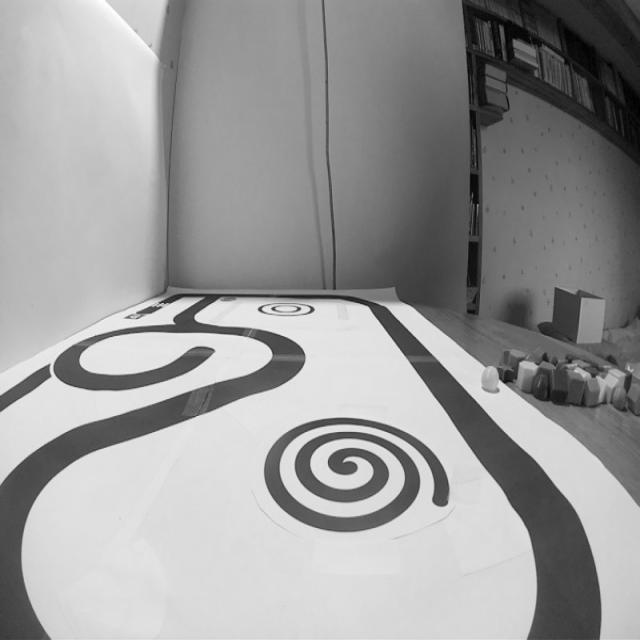nest: (254, 413, 452, 531)
